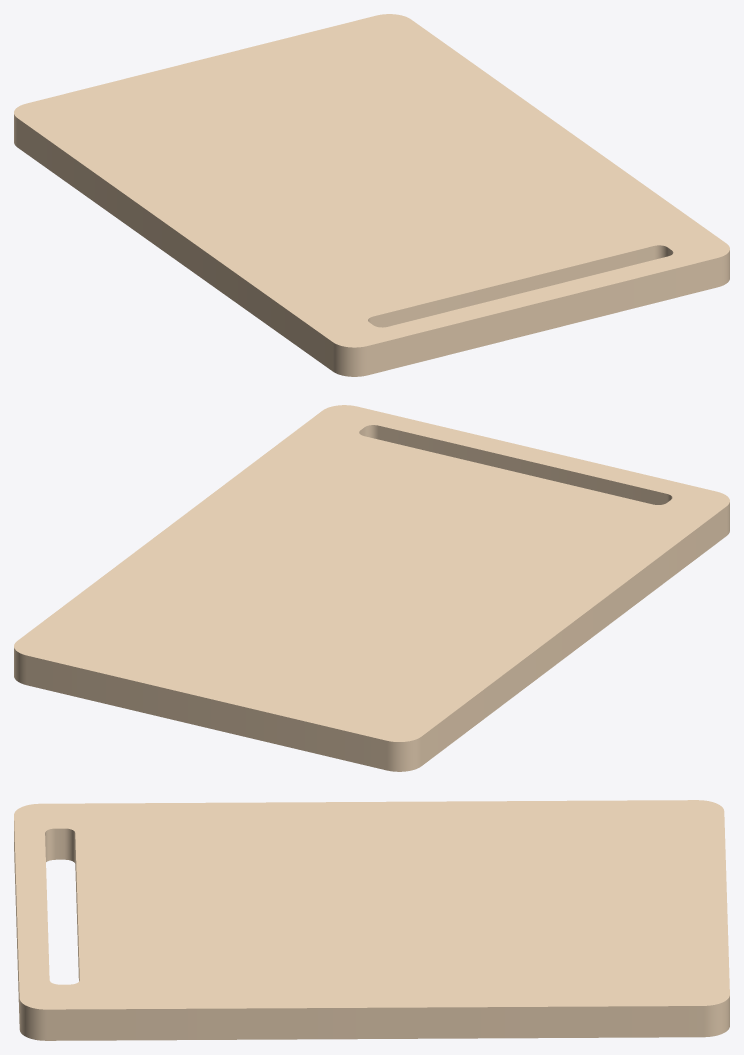
3 renders of one model, top to bottom at view 1: azimuth 30°, elevation 25°; view 2: azimuth 150°, elevation 25°; view 3: azimuth 270°, elevation 25°, orthographic. The views are drawn at different scales.
Visible parts, largest first — view 1: slab; view 2: slab; view 3: slab.
Part boxes in pixels (bbox=[...]): slab: bbox=[14, 14, 729, 376]; slab: bbox=[14, 405, 729, 771]; slab: bbox=[14, 800, 729, 1040].
Size of the model in its own units: 0.2791 by 0.0194 by 0.4032.
